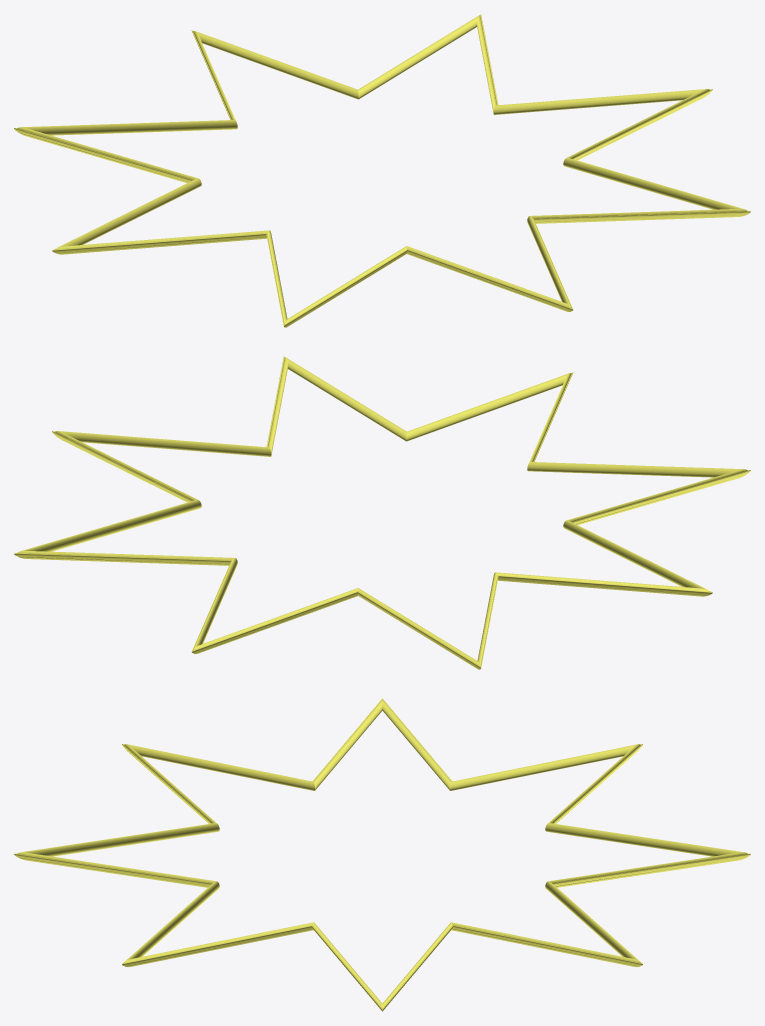
Rendered from ring3.fbx.
3 views of the same model, one above another, from view 1: azimuth 30°, elevation 25°; view 2: azimuth 150°, elevation 25°; view 3: azimuth 270°, elevation 25° (orthographic). The views are drawn at different scales.
Parts seen in each view (by area): view 1: ring3; view 2: ring3; view 3: ring3.
Part boxes in pixels (x1,y1,x2,y2): ring3: (14, 14, 750, 327); ring3: (14, 356, 750, 669); ring3: (14, 698, 750, 1011).
Size of the model in its own units: 21098 by 264 by 21098.
